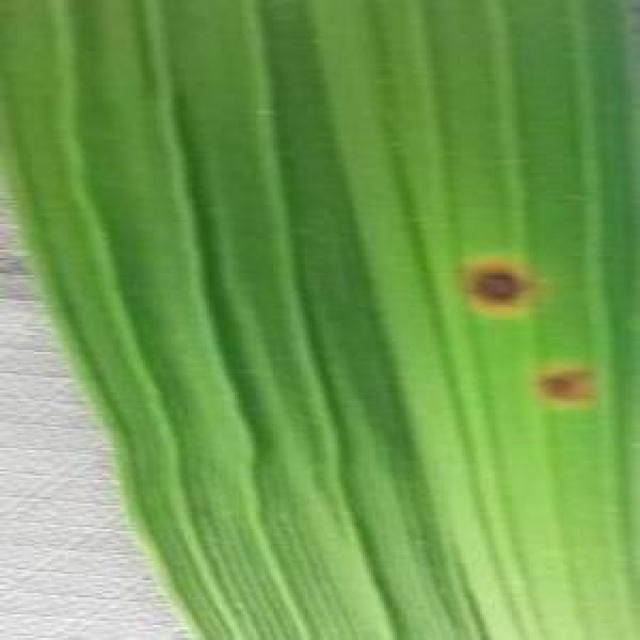Brown_Spot: (445, 255, 548, 318), (522, 354, 608, 410)
